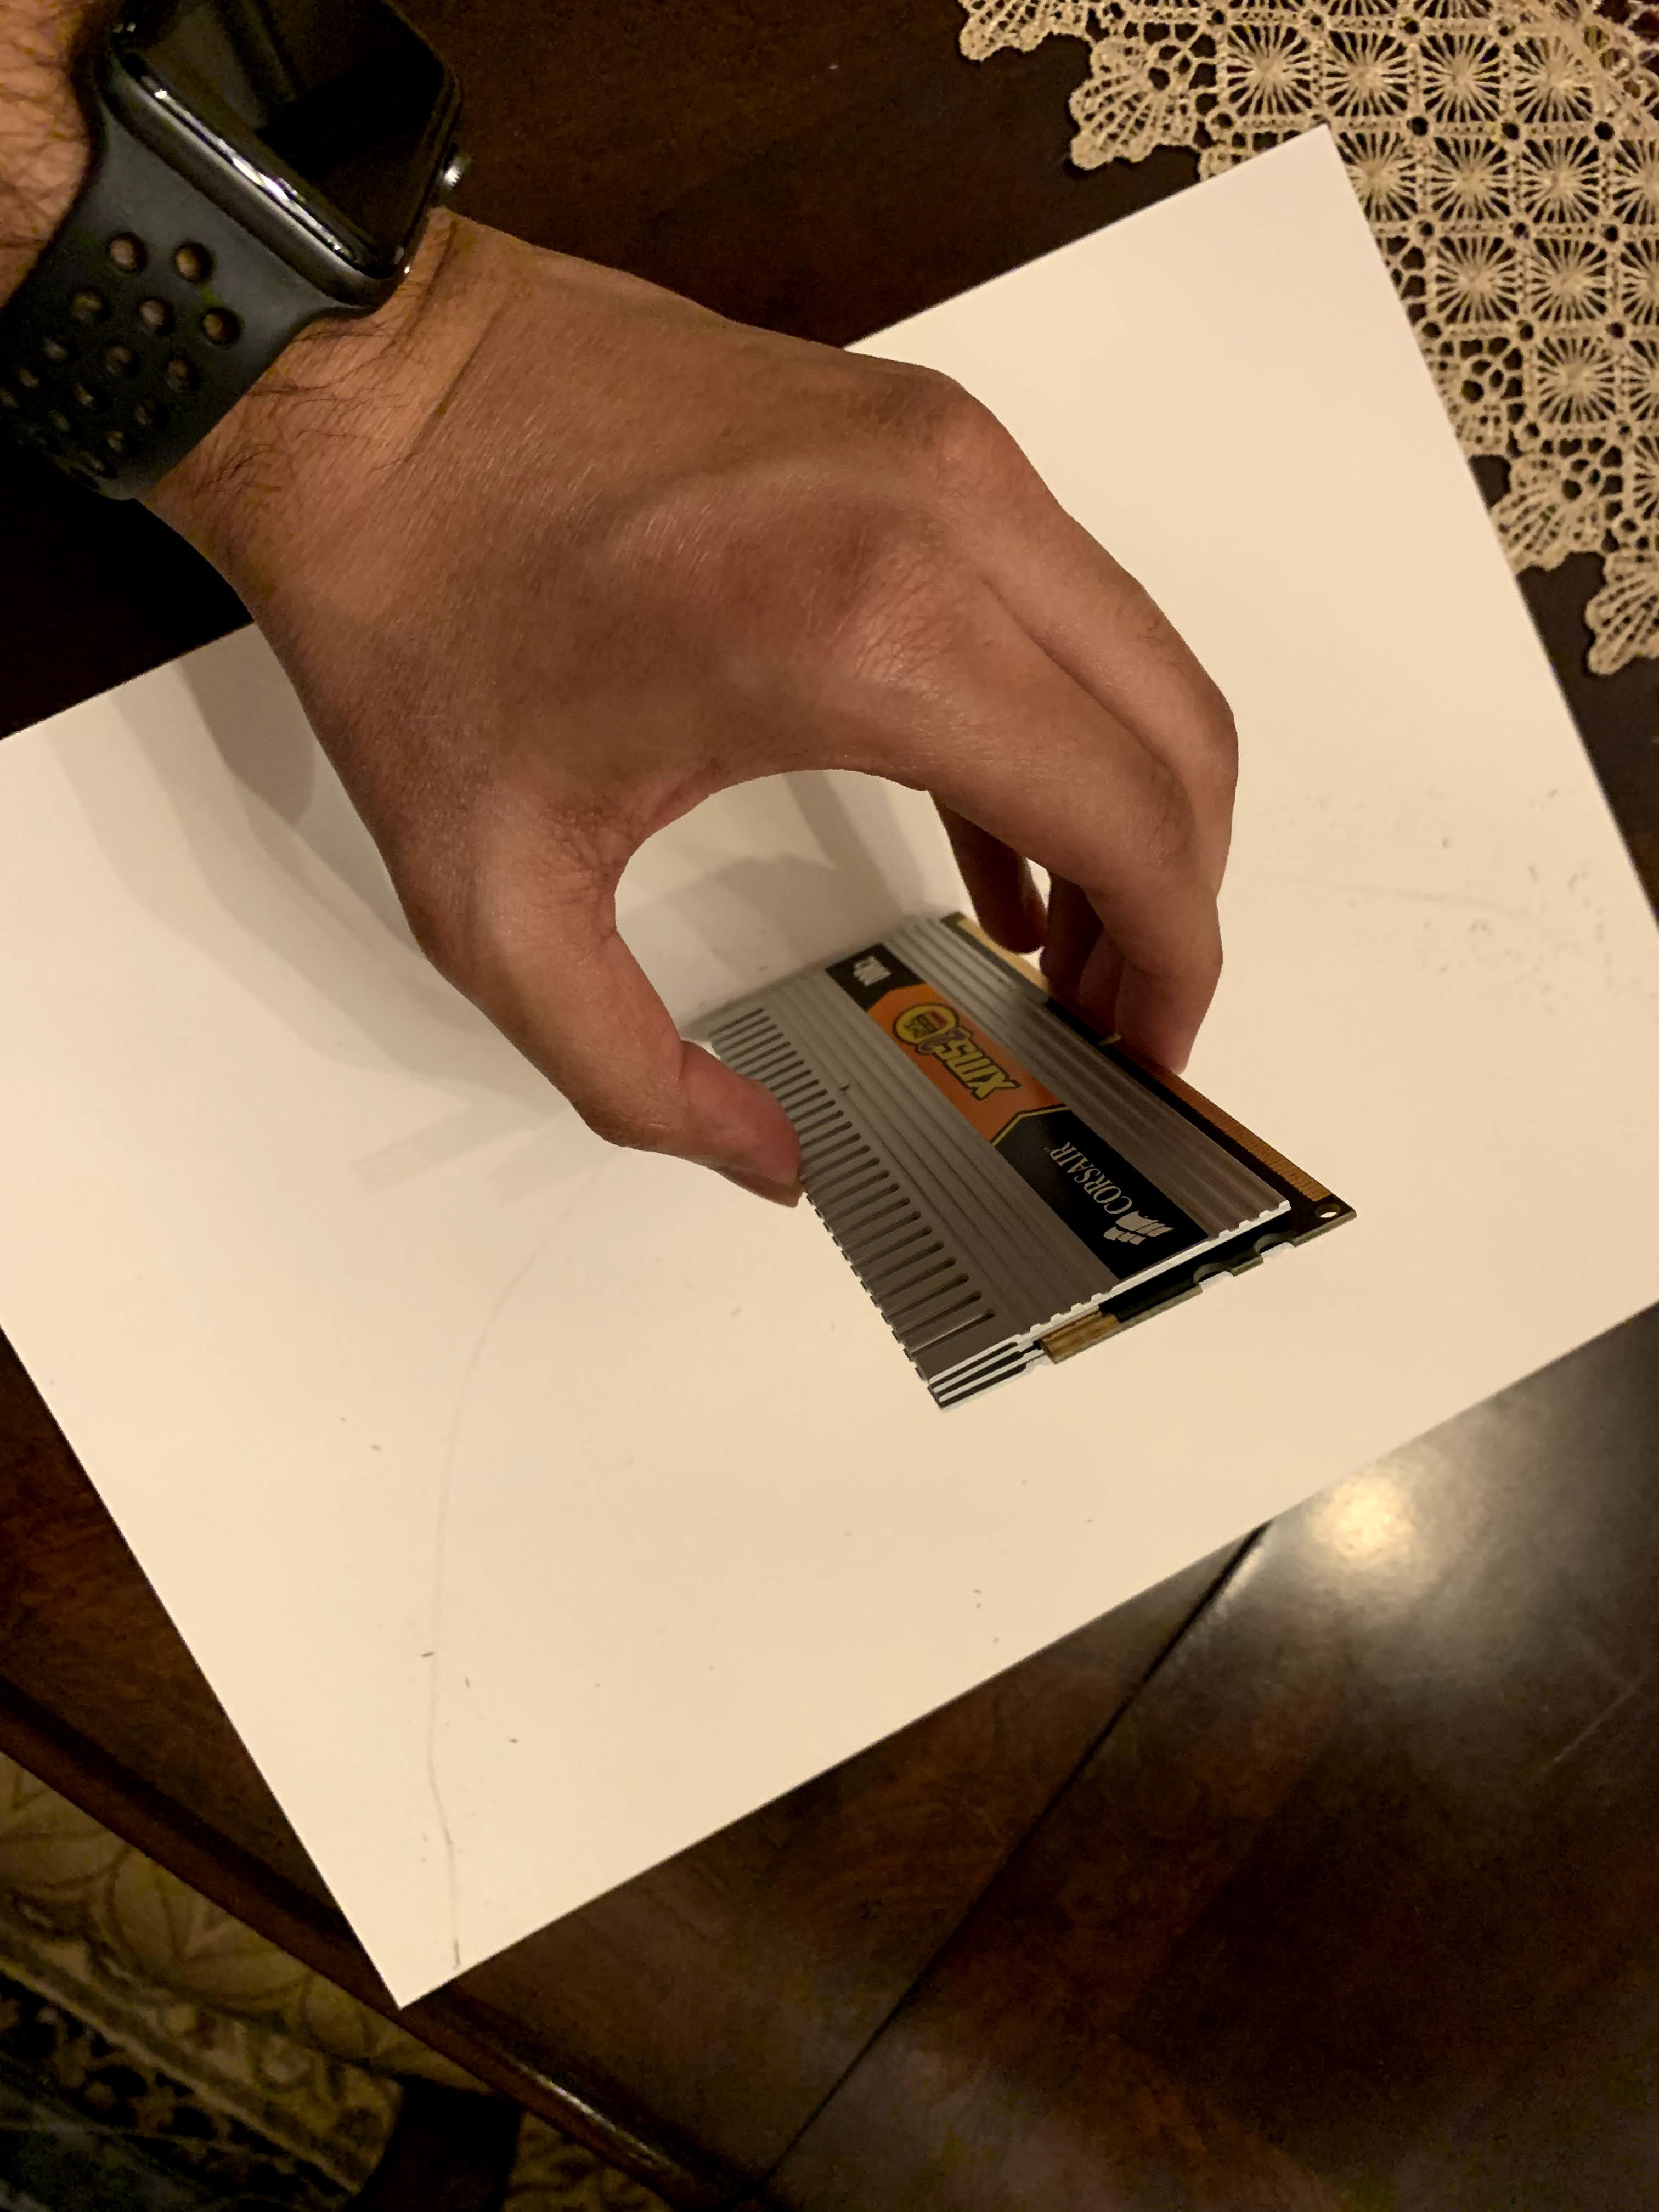Space-debris-medium: (666, 894, 1391, 1423)
